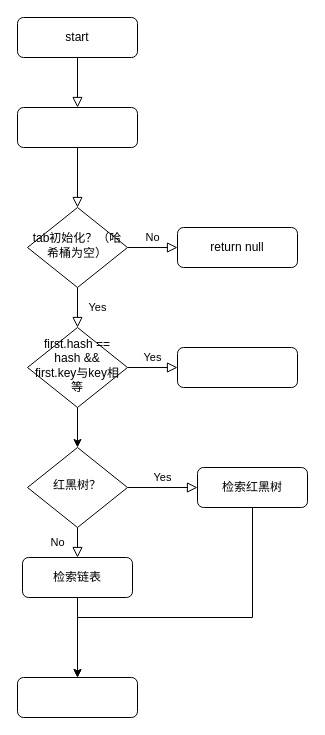
Image size: 325x735. Some labels were removed from this diagram. Each missing label, with the box of its shape:
return first: (176, 346, 298, 388)
return node: (16, 676, 138, 718)
计算hash值，确定bucket index: (16, 106, 138, 148)
